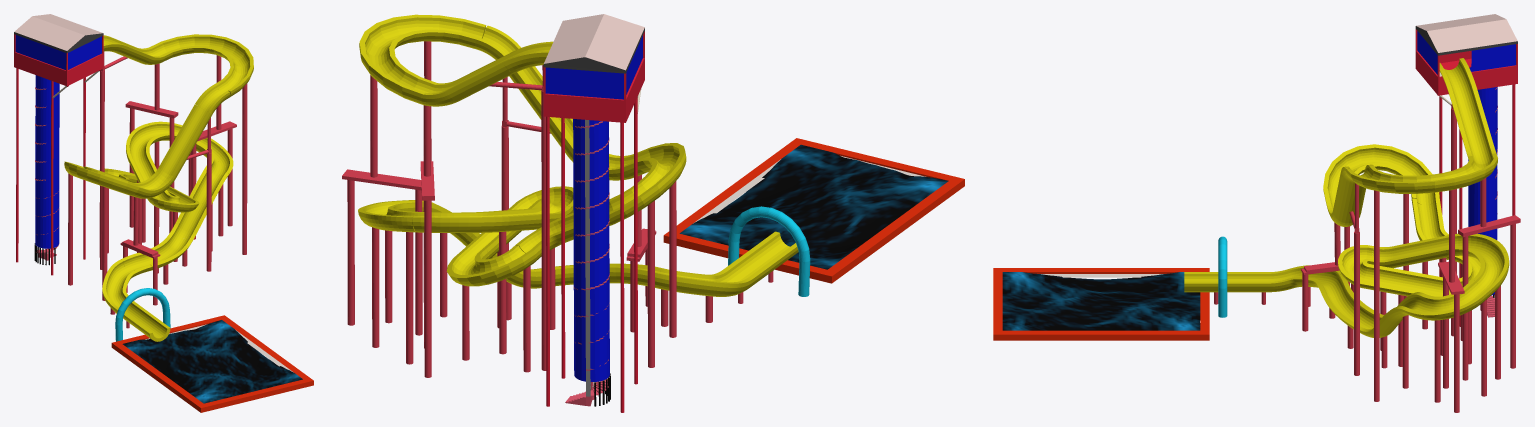
The model's file is WaterSlide.fbx.
3 renders of one model, left to right at view 1: azimuth 30°, elevation 25°; view 2: azimuth 150°, elevation 25°; view 3: azimuth 270°, elevation 25°, orthographic. The views are drawn at different scales.
Visible parts, largest first — view 1: waterSlide, Water; view 2: waterSlide, Water; view 3: waterSlide, Water.
Boxes of the visible parts, x1=… form: waterSlide: x1=14, y1=14, x2=313, y2=412; Water: x1=122, y1=320, x2=302, y2=403; waterSlide: x1=342, y1=14, x2=964, y2=412; Water: x1=679, y1=144, x2=948, y2=269; waterSlide: x1=993, y1=14, x2=1520, y2=412; Water: x1=1002, y1=272, x2=1200, y2=330.
Bounding box in the file's own units: 6656 × 6721 × 11139.
